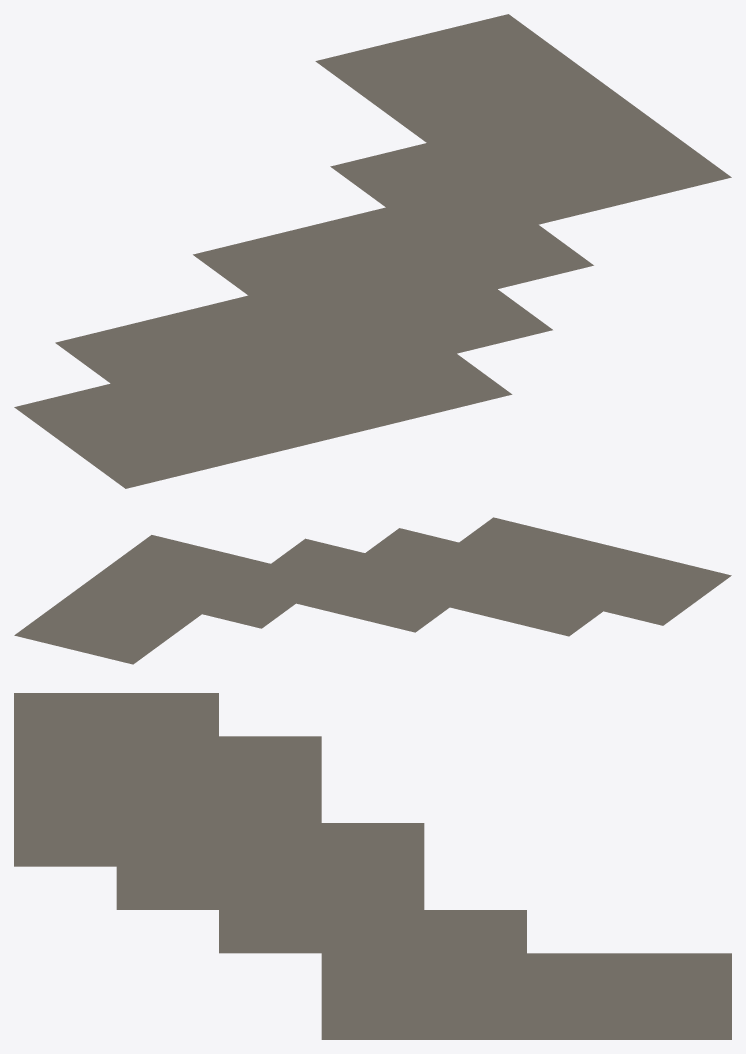
Rendered from Isl-crescent6-RocksArea.fbx.
3 renders of one model, top to bottom at view 1: azimuth 30°, elevation 25°; view 2: azimuth 150°, elevation 25°; view 3: azimuth 270°, elevation 25°, orthographic. The views are drawn at different scales.
Parts seen in each view (by area): view 1: Isl-crescent6-RocksArea; view 2: Isl-crescent6-RocksArea; view 3: Isl-crescent6-RocksArea.
Boxes of the visible parts, left/top/right/bottom form: Isl-crescent6-RocksArea: left=14, top=14, right=731, bottom=488; Isl-crescent6-RocksArea: left=14, top=517, right=731, bottom=664; Isl-crescent6-RocksArea: left=14, top=693, right=731, bottom=1039.
Bounding box in the file's own units: 8 × 0 × 7.
